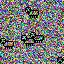sheep: (24, 6, 40, 19), (29, 31, 45, 44), (21, 35, 35, 46), (0, 39, 14, 49), (57, 57, 64, 64)
